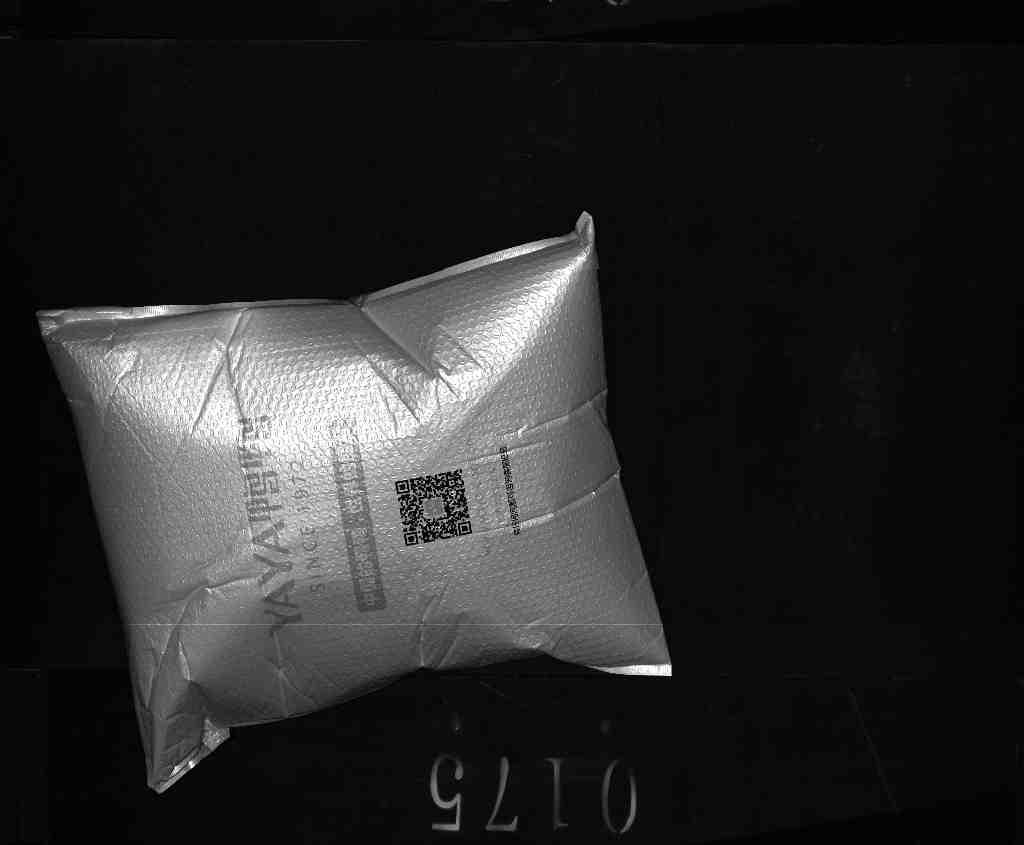box: (39, 226, 674, 793)
